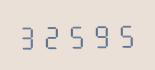five: (66, 20, 89, 49), (114, 19, 137, 48)
nine: (90, 19, 113, 49)
three: (18, 21, 41, 50)
two: (42, 20, 65, 50)
